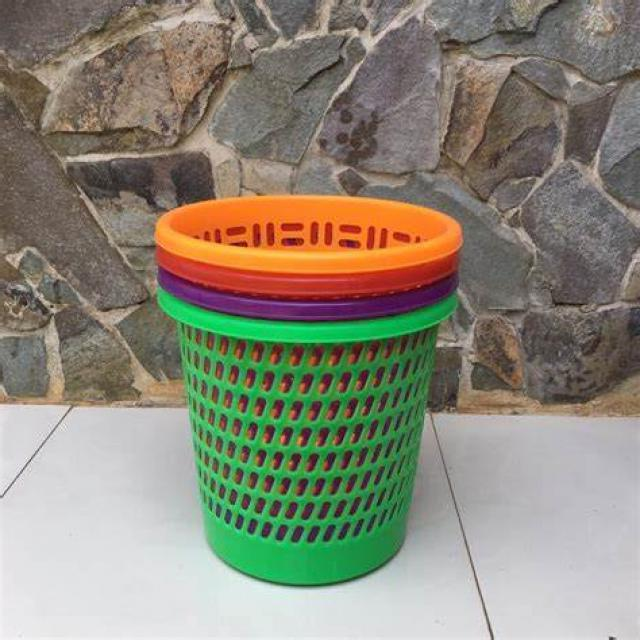garbage container: (64, 152, 510, 597)
